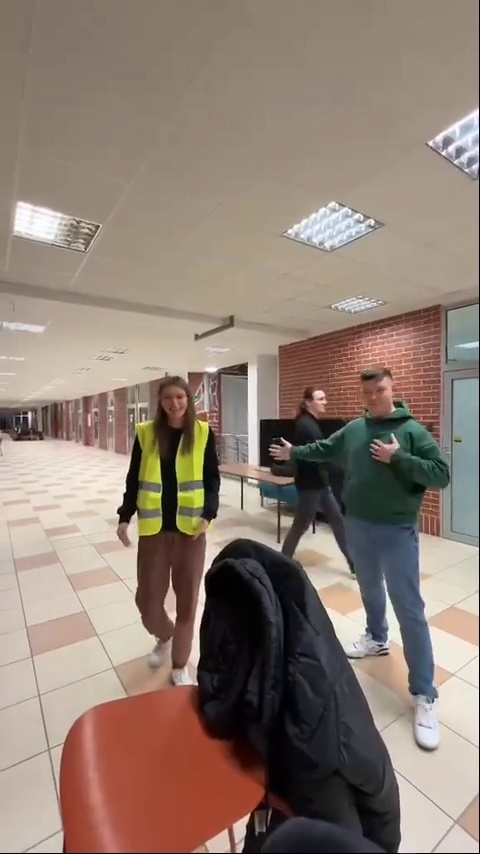no vest: (338, 371, 451, 732), (281, 389, 342, 574)
vest: (127, 368, 224, 683)
